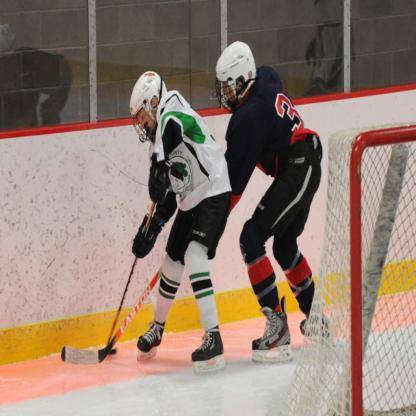Helmet: (216, 37, 256, 115), (131, 71, 162, 139)
